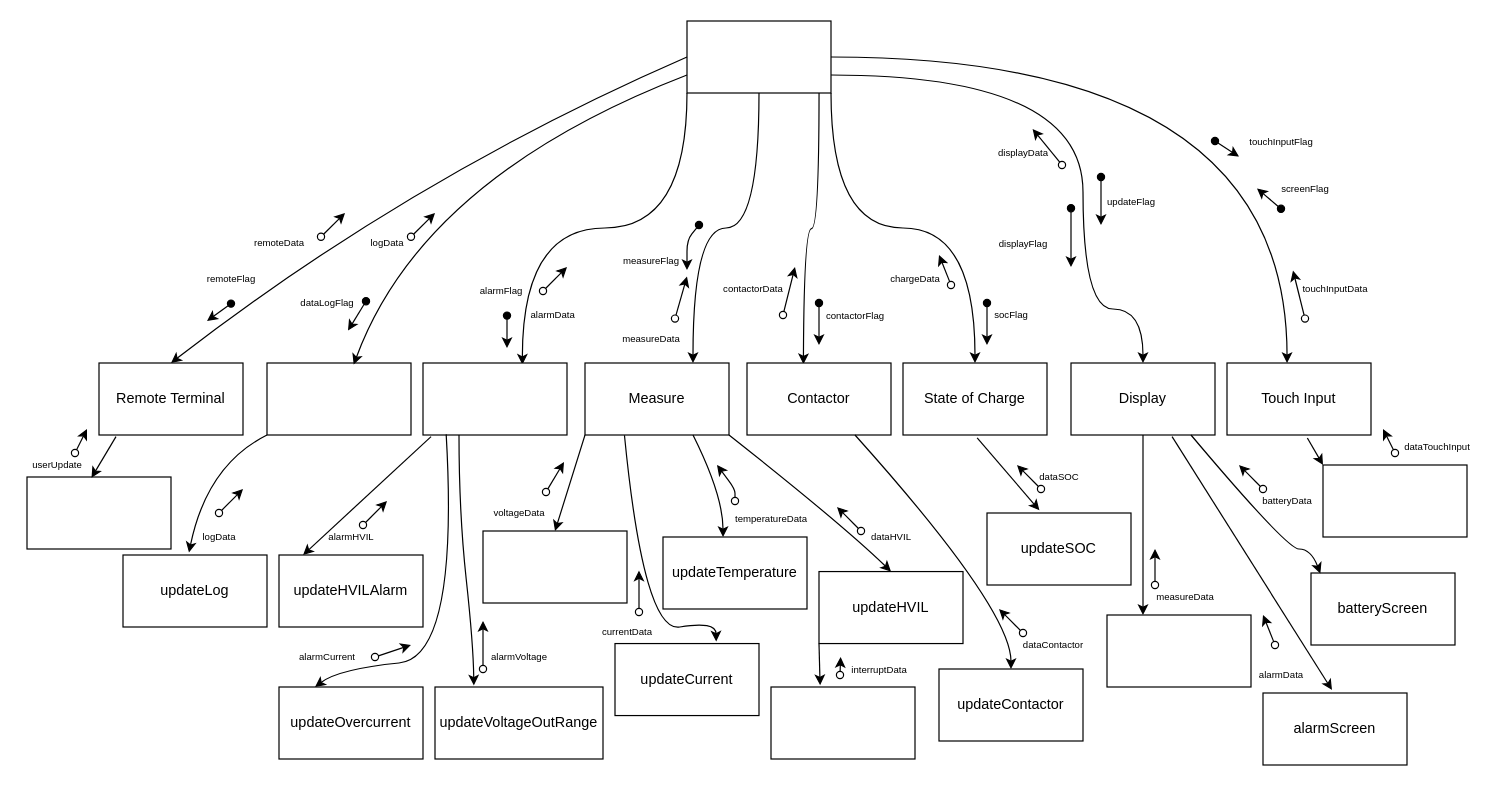
Image size: 1499x786. Some labels were removed from this diagram. The shapes that lost their labels are listed below. From the top down, each one's box as (x1, y1, x2, y2) in pixels, then its label:
(686, 20, 831, 93): Scheduler
(266, 362, 411, 435): Data Log
(422, 362, 567, 435): Alarm
(26, 476, 171, 549): userMonitorInput
(1322, 464, 1467, 537): userTouchInput
(482, 530, 627, 603): updateVoltage
(1106, 614, 1251, 687): measureScreen
(770, 686, 915, 759): hvilInterrupt
